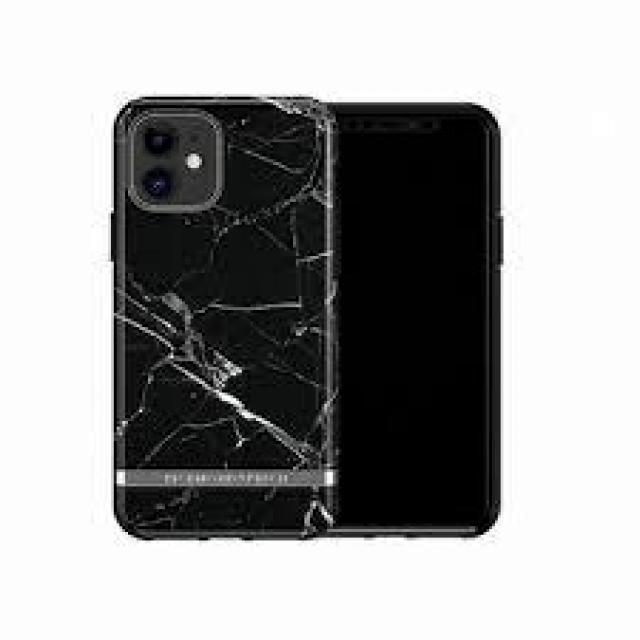lens_back: (140, 166, 177, 203), (141, 122, 176, 158)
phone: (106, 91, 338, 541), (333, 97, 513, 544)
